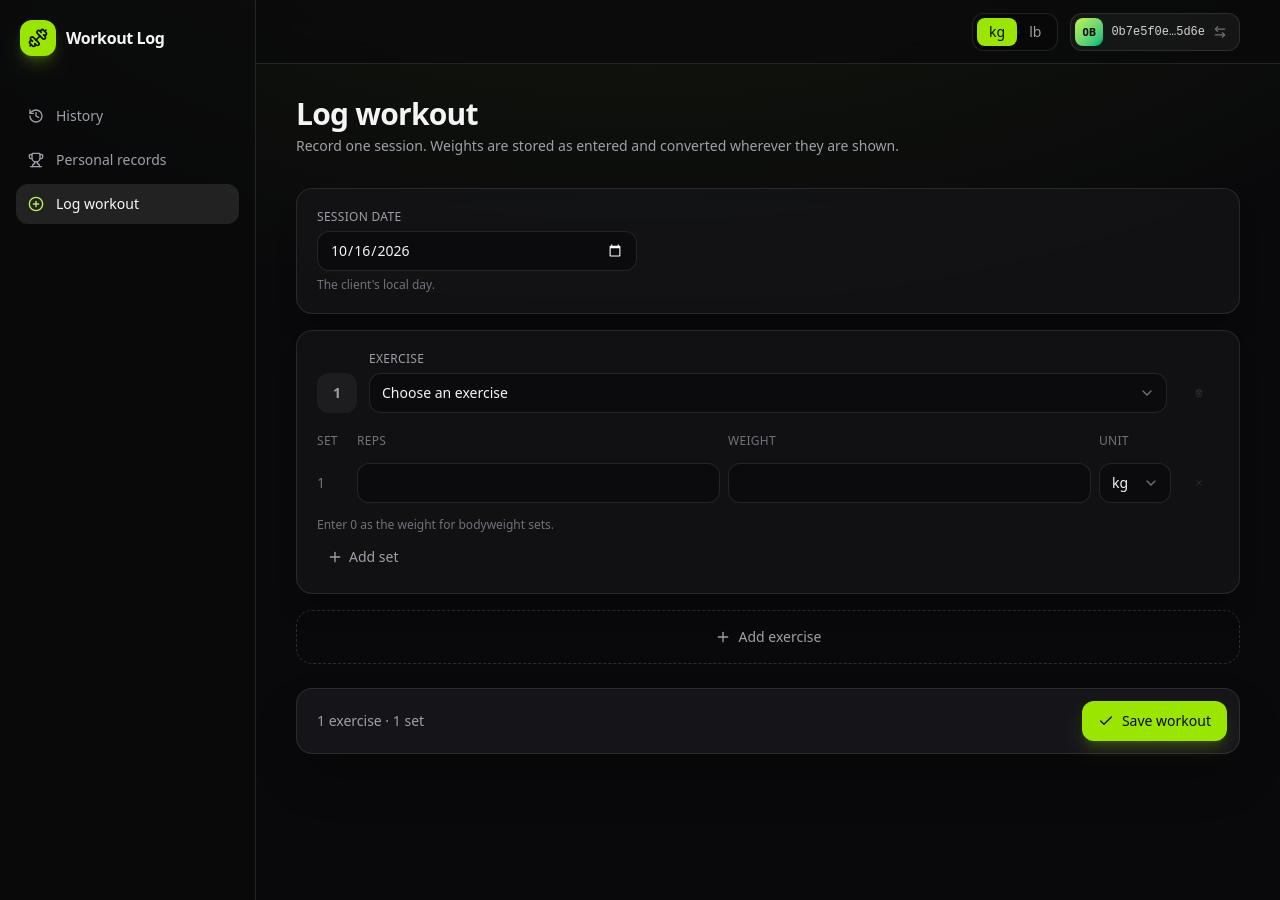
Test: LogWorkoutPage › shows API validation errors next to their fields and clears them on edit
Click the button "Save workout" at (1154, 721), box 1082,701 -> 1227,741
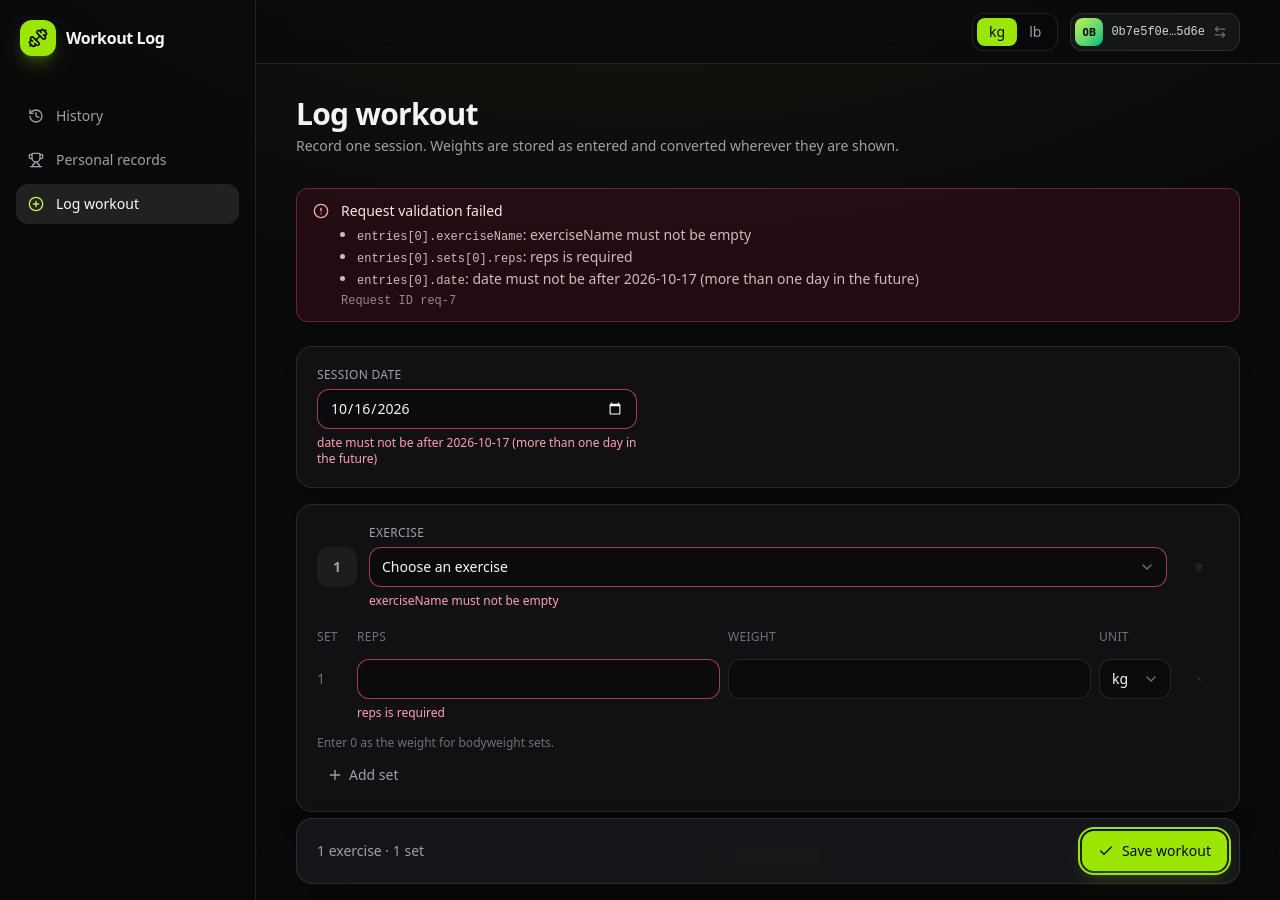
Check: the message shows "Request validation failed", box 341,201 -> 503,220
Check: the message shows "Request ID req-7", box 296,188 -> 1240,322
Type "5" into the 1st number field at (538, 679), box 357,659 -> 720,699
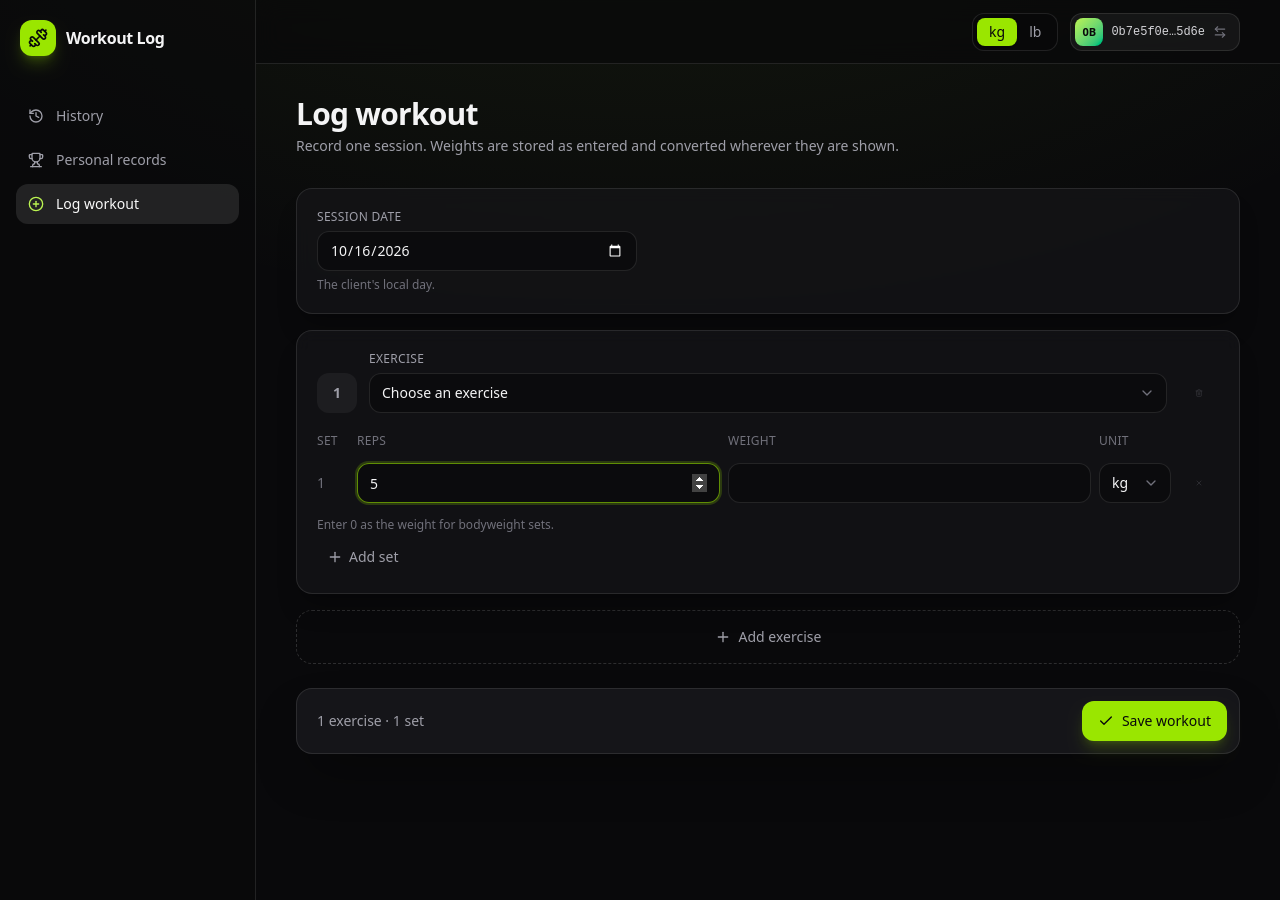
Check: the message is gone
